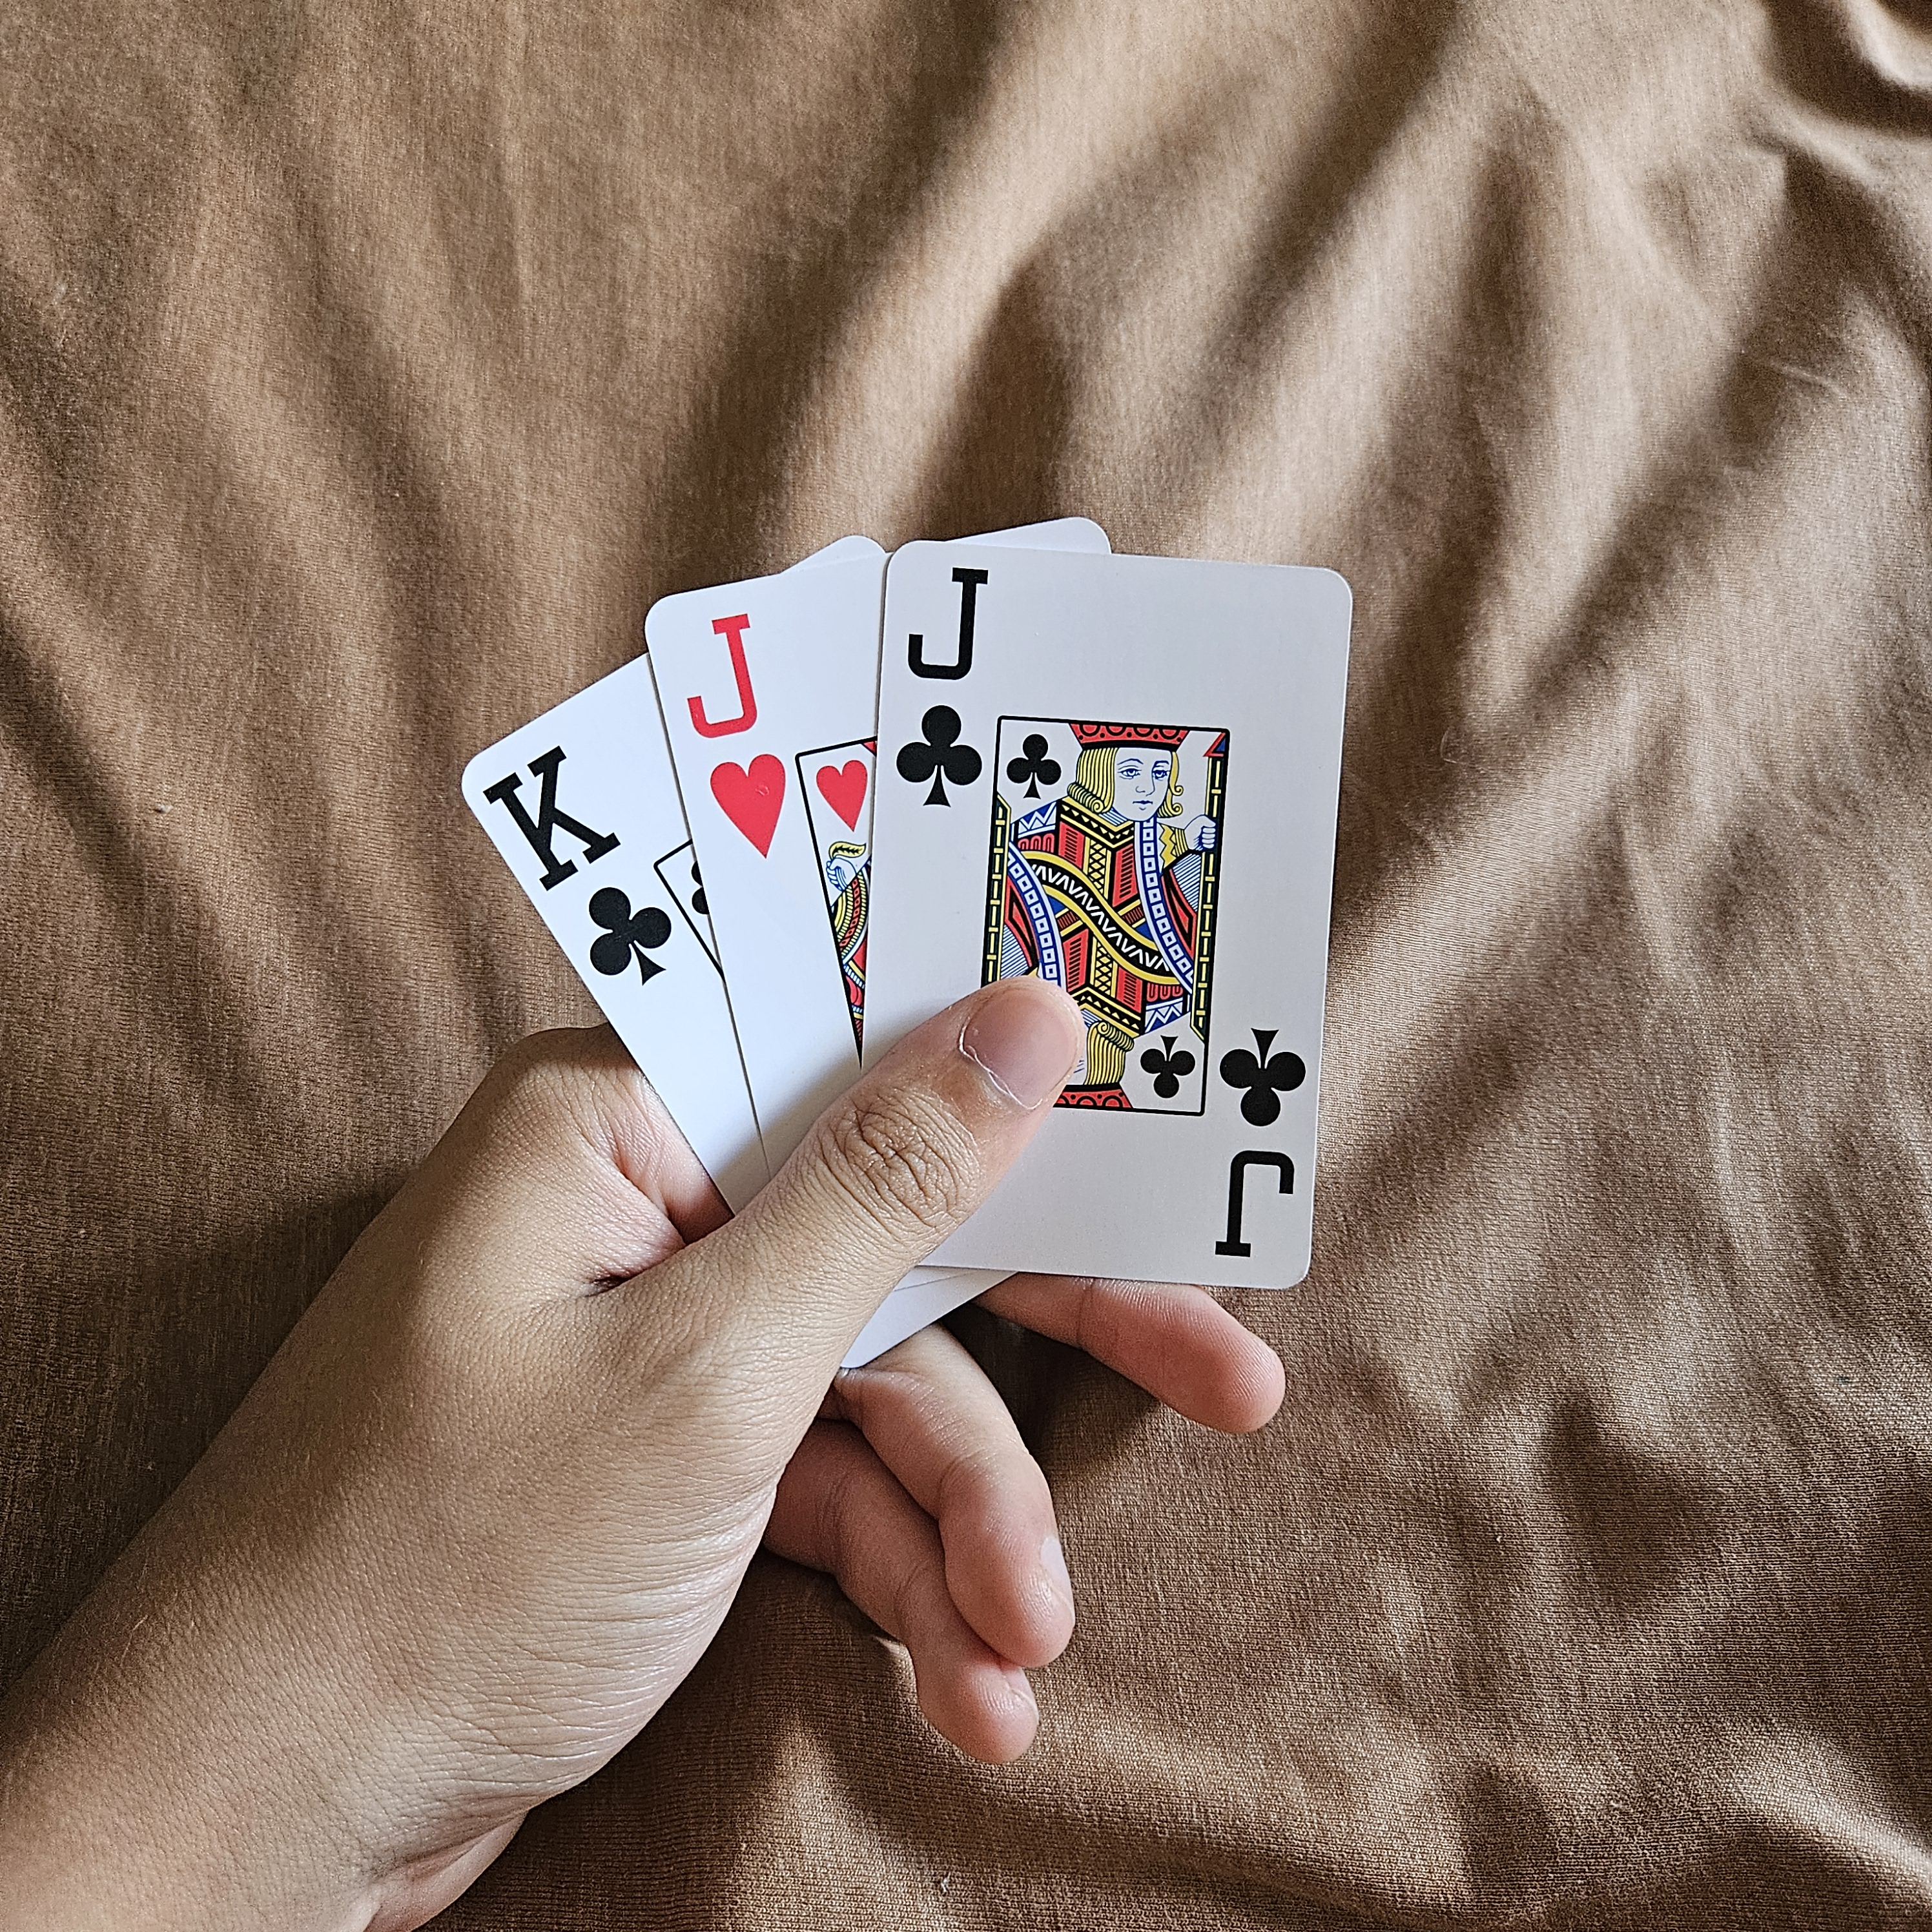JC: (671, 602, 805, 870)
JP: (878, 545, 1001, 821), (1201, 1005, 1316, 1277)
KP: (476, 727, 685, 1008)
